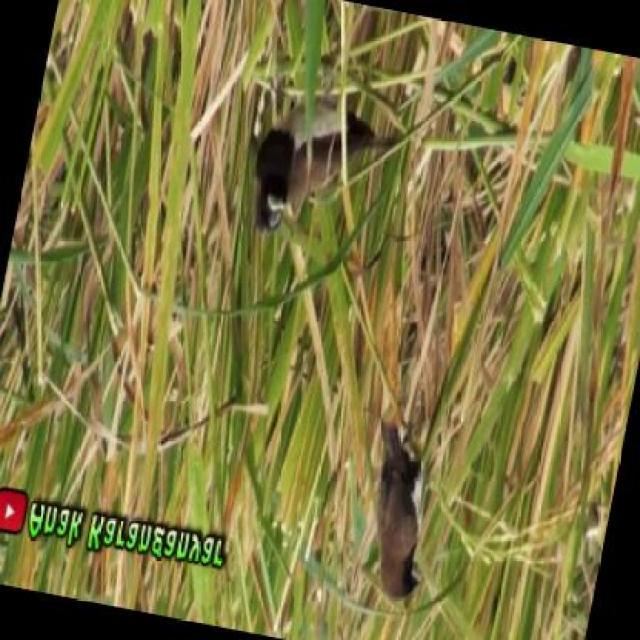Bird: (210, 84, 404, 239), (355, 402, 464, 616)
